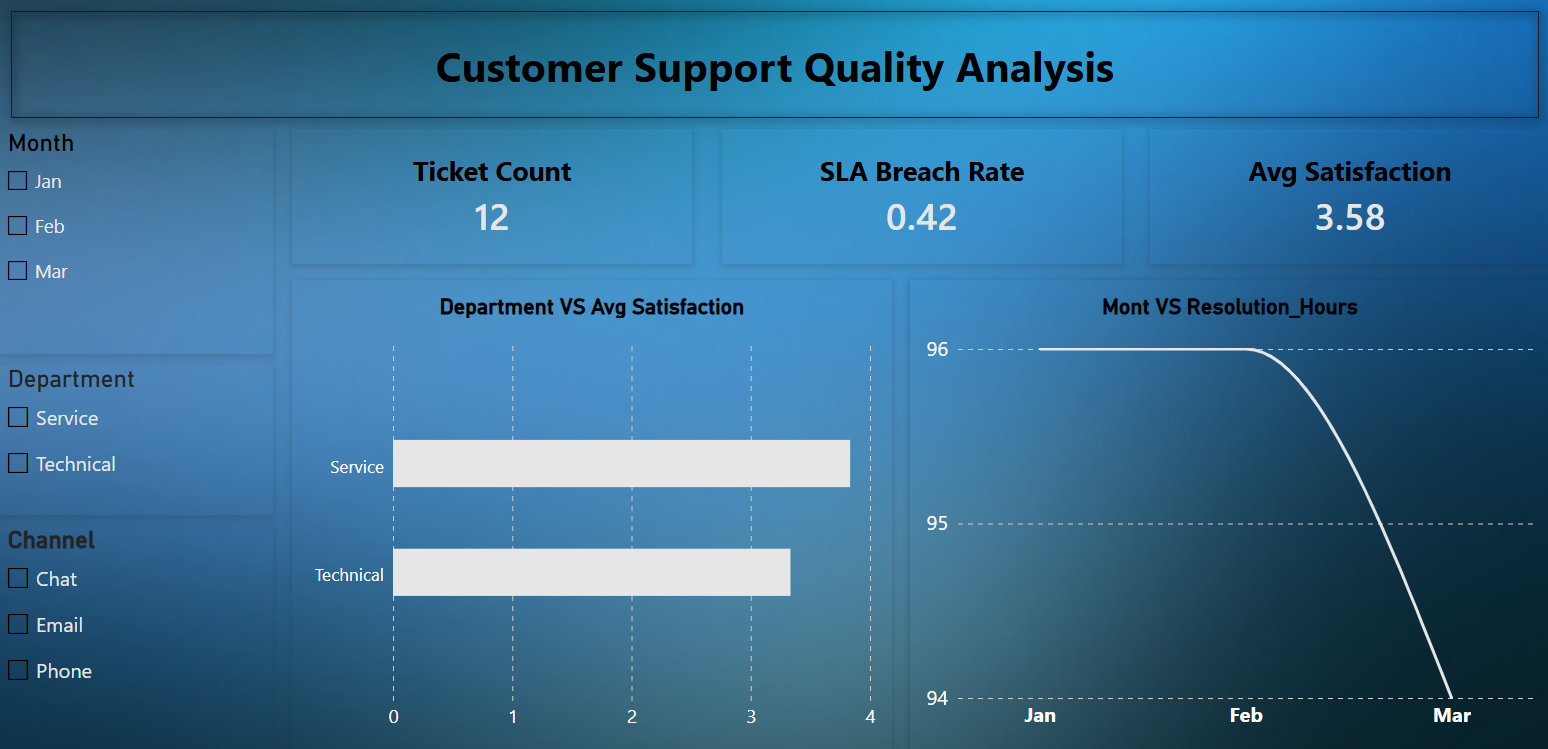

This screenshot's page, from the dashboard's own definition file:
{"tool":"powerbi","page":{"name":"Page 1","canvas":[1550,750],"ordinal":0},"visuals":[{"type":"shape","box":[0,0,1550,129],"z":0},{"type":"cardVisual","fields":{"Data":["orignal_tickets.Avg Satisfaction"]},"box":[1150,129,400,135],"z":1000},{"type":"cardVisual","fields":{"Data":["orignal_tickets.SLA Breach Rate"]},"box":[722,129,400,135],"z":2000},{"type":"cardVisual","fields":{"Data":["orignal_tickets.Ticket Count"]},"box":[292,129,400,135],"z":3000},{"type":"barChart","title":"Department VS Avg Satisfaction ","fields":{"Category":["teams.department"],"Y":["orignal_tickets.Avg Satisfaction"]},"box":[292,280,600,470],"z":4000},{"type":"lineChart","title":"Mont VS Resolution_Hours","fields":{"Category":["orignal_tickets.month"],"Y":["Sum(orignal_tickets.resolution_hours)"]},"box":[910,280,640,470],"z":5000},{"type":"slicer","fields":{"Values":["orignal_tickets.month"]},"box":[0,129.3,272.9,225],"z":6000},{"type":"slicer","fields":{"Values":["orignal_tickets.channel"]},"box":[0,525.9,272.9,224],"z":7000},{"type":"slicer","fields":{"Values":["teams.department"]},"box":[0,365.2,272.9,150],"z":8000}]}

Visuals, with their boxes in screenshot pixels (x1, y1, x2, y2), scaled from the page's 1550x750 canvas onto the 1548x749 screenshot:
shape: (0, 0, 1547, 129)
cardVisual - orignal_tickets.Avg Satisfaction: (1149, 129, 1547, 264)
cardVisual - orignal_tickets.SLA Breach Rate: (721, 129, 1121, 264)
cardVisual - orignal_tickets.Ticket Count: (292, 129, 691, 264)
"Department VS Avg Satisfaction " barChart: (292, 280, 891, 748)
"Mont VS Resolution_Hours" lineChart: (909, 280, 1547, 748)
slicer - orignal_tickets.month: (0, 129, 273, 354)
slicer - orignal_tickets.channel: (0, 525, 273, 748)
slicer - teams.department: (0, 365, 273, 515)
